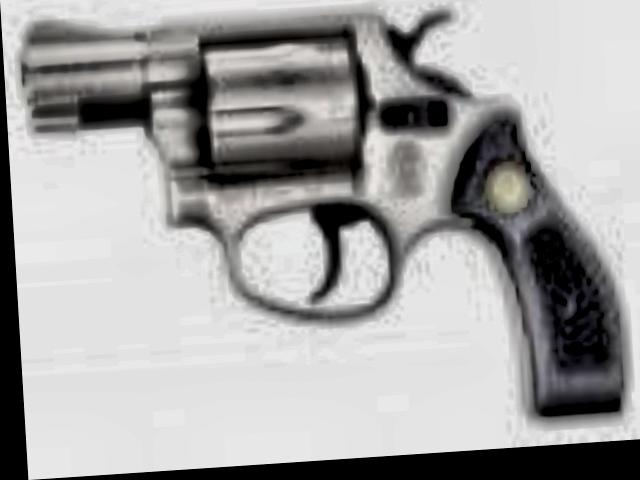pistol: (9, 0, 625, 456)
